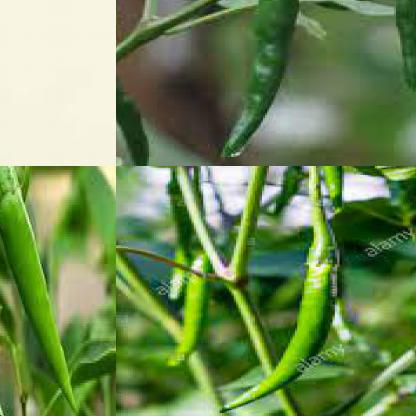Green Chilli: (215, 200, 349, 414), (0, 189, 89, 415), (212, 0, 310, 159), (164, 254, 224, 365), (116, 0, 147, 165), (154, 184, 196, 298), (387, 0, 415, 94), (311, 166, 356, 212)
